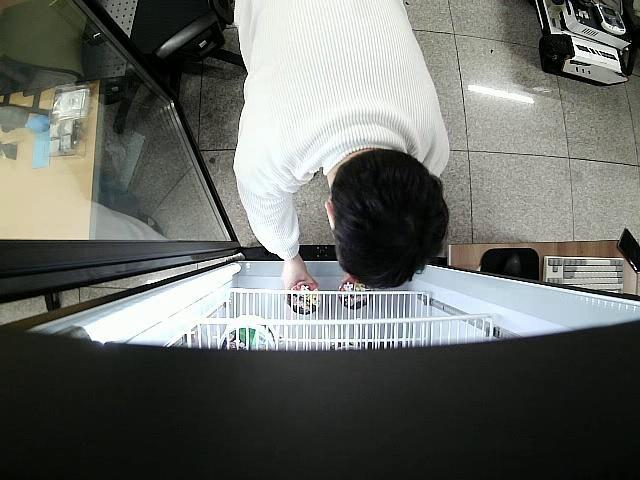08_buldak_S: (286, 280, 322, 316)
